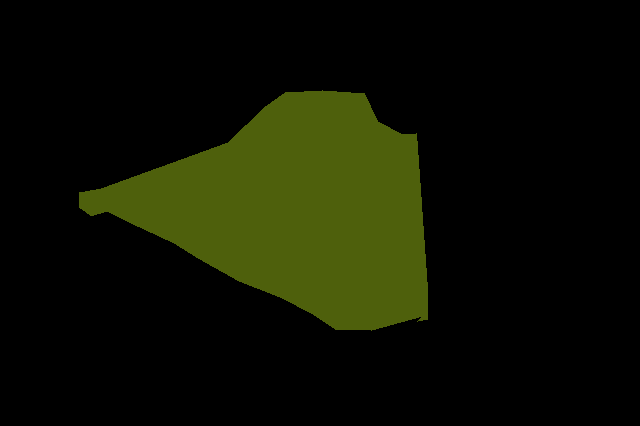Train: (79, 90, 428, 330)
